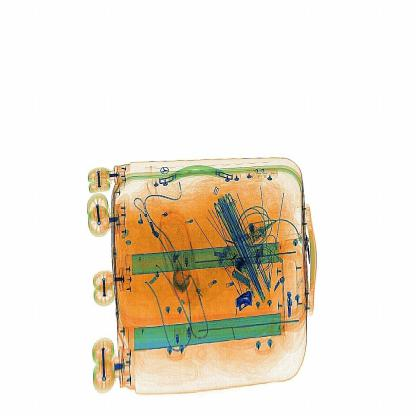knife: (230, 287, 254, 317)
